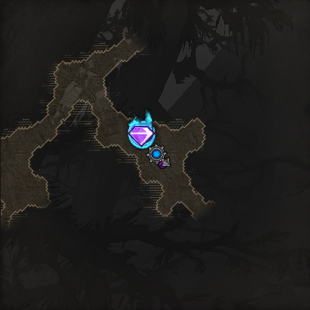Urushi: (127, 111, 155, 149)
